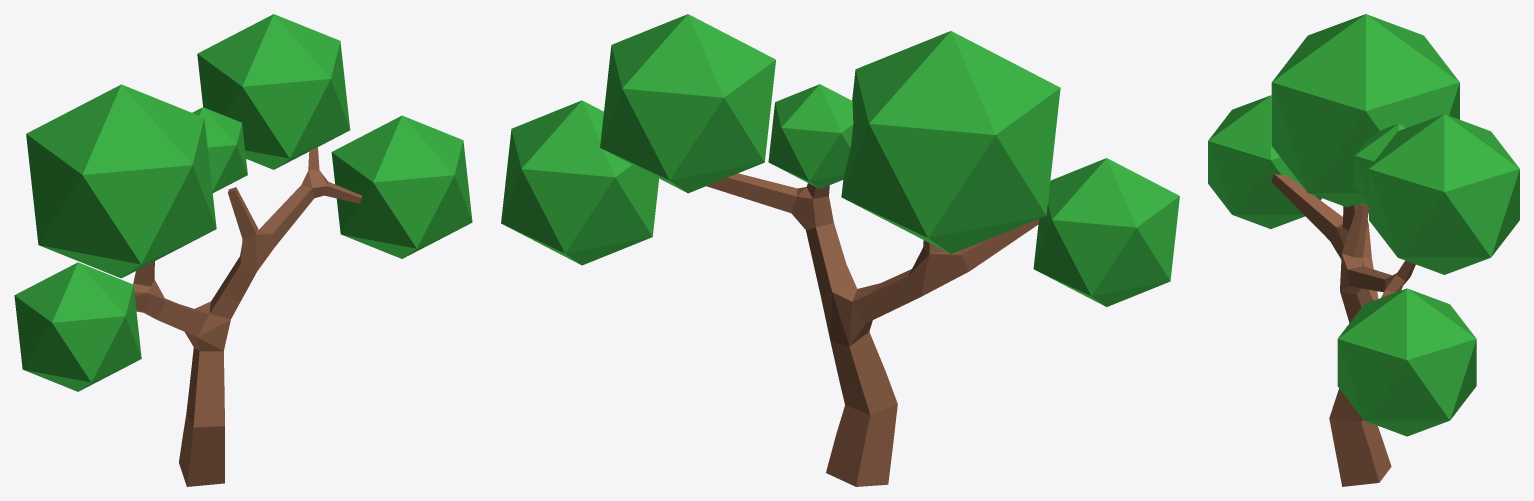
The model's file is Tree5.fbx.
3 renders of one model, left to right at view 1: azimuth 30°, elevation 25°; view 2: azimuth 150°, elevation 25°; view 3: azimuth 270°, elevation 25°, orthographic. The views are drawn at different scales.
Parts seen in each view (by area): view 1: Icosphere.016; view 2: Icosphere.016; view 3: Icosphere.016.
Part boxes in pixels (<box>): Icosphere.016: <box>14,14,472,486</box>; Icosphere.016: <box>501,14,1179,486</box>; Icosphere.016: <box>1208,14,1519,486</box>.
Size of the model in its own units: 749 by 584 by 387.
